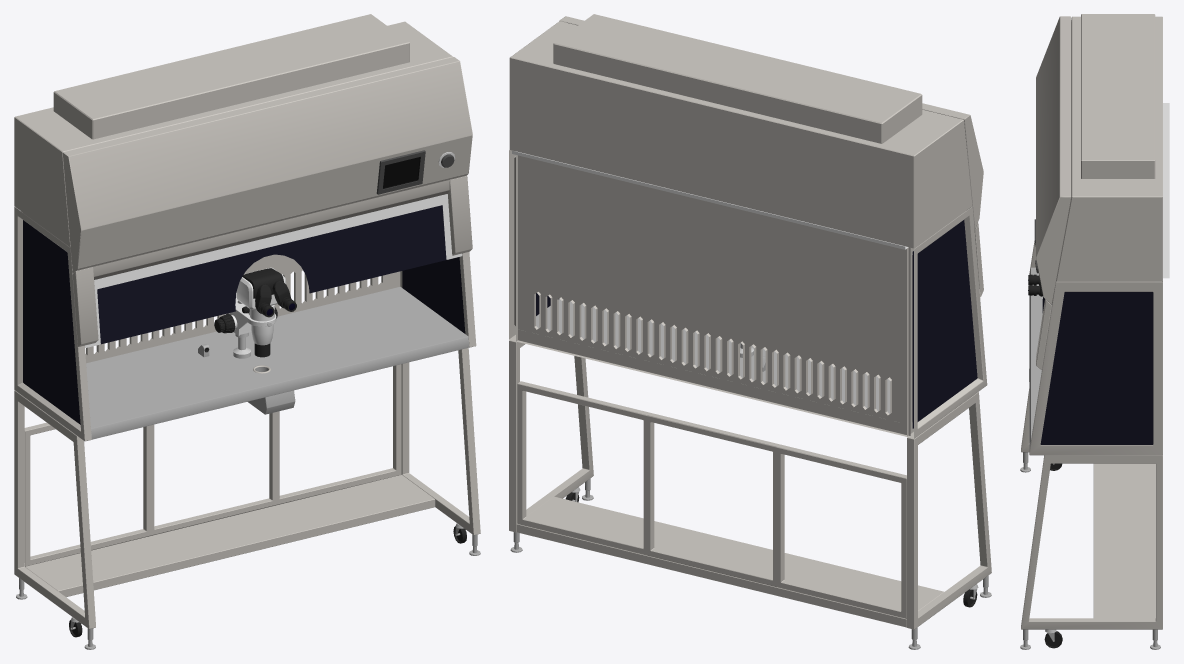
Rendered from laminar.FBX.
3 views of the same model, side by side, from view 1: azimuth 30°, elevation 25°; view 2: azimuth 150°, elevation 25°; view 3: azimuth 270°, elevation 25° (orthographic). The views are drawn at different scales.
Visible parts, largest first — view 1: laminar, laminar-glass; view 2: laminar, laminar-glass; view 3: laminar, laminar-glass.
Part boxes in pixels (x1,y1,x2,y2): laminar: [14, 14, 480, 649]; laminar-glass: [23, 205, 465, 424]; laminar: [509, 14, 991, 649]; laminar-glass: [536, 220, 977, 428]; laminar: [1020, 14, 1169, 649]; laminar-glass: [1040, 292, 1153, 444].
Size of the model in its own units: 1.43 by 1.72 by 0.4949.
2 materials, 1 textured.
